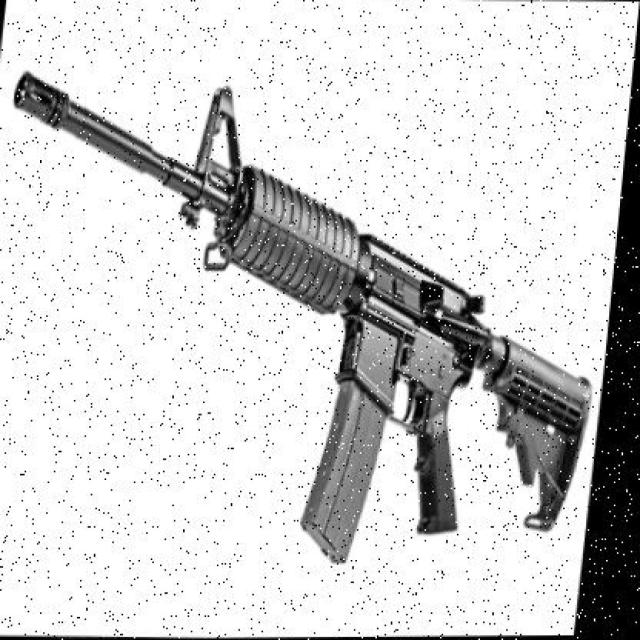weapon: (12, 66, 594, 566)
